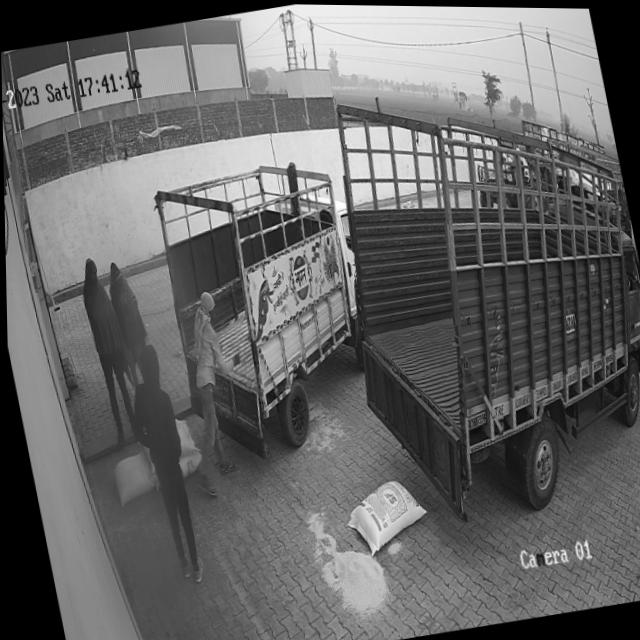sack: (338, 474, 430, 558), (107, 450, 158, 504)
